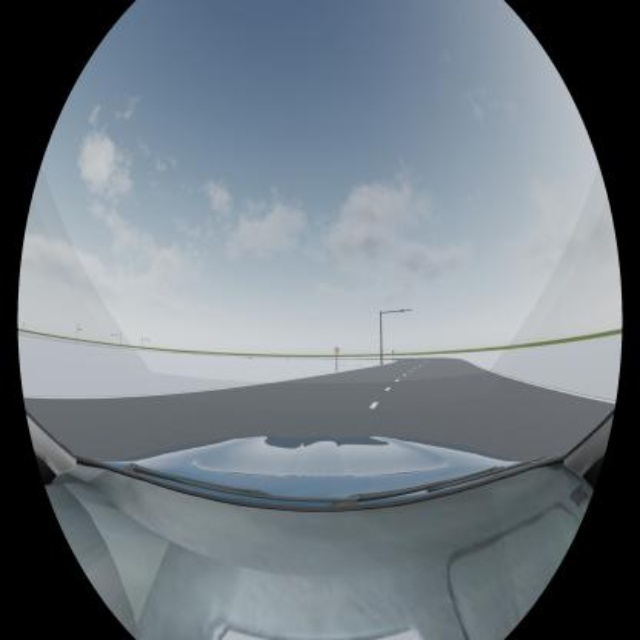Tốc độ tối đa cho phép 110km/h: (335, 347, 339, 354)
Đèn đỏ: (400, 309, 406, 312)
